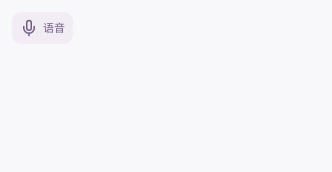
Test: director voice input › refuses a recording larger than the local bound without uploading it
Later steps or results of the test are not shown.
Click the button with aria-label "语音输入": (42, 28) [12, 12, 73, 44]
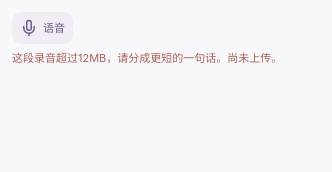
Now the text "这段录音超过12MB，请分成更短的一句话。尚未上传。" is shown, box [12, 51, 282, 65]
